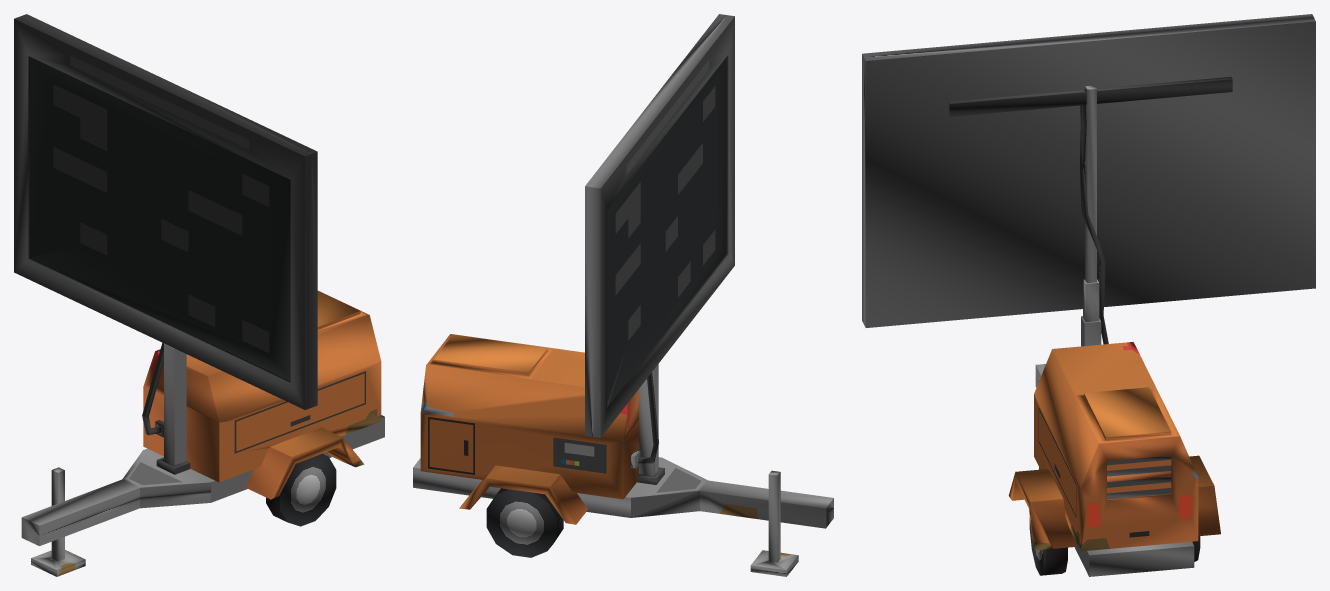
File: apoc_prop_98.glb
3 views of the same model, side by side, from view 1: azimuth 30°, elevation 25°; view 2: azimuth 150°, elevation 25°; view 3: azimuth 270°, elevation 25° (orthographic). The views are drawn at different scales.
Visible parts, largest first — view 1: prop_100; view 2: prop_100; view 3: prop_100.
Boxes of the visible parts, x1=… form: prop_100: x1=14, y1=14, x2=384, y2=576; prop_100: x1=413, y1=14, x2=833, y2=576; prop_100: x1=862, y1=14, x2=1315, y2=576.
Size of the model in its own units: 0.7554 by 0.864 by 0.7508.
1 material, 1 textured.
